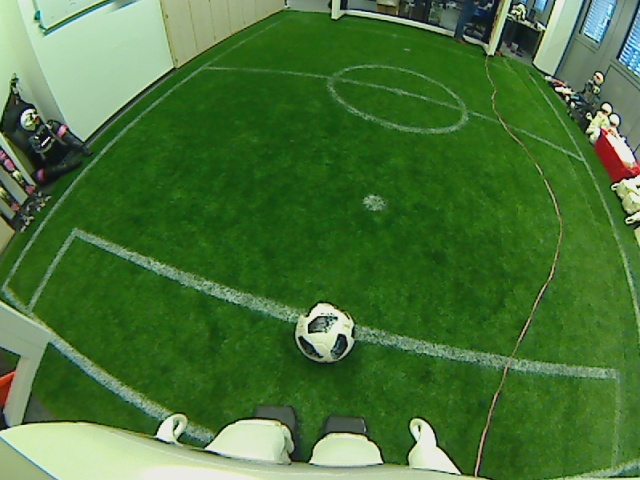ball: (293, 300, 357, 365)
